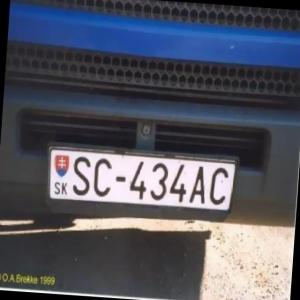Plate: (51, 150, 229, 213)
